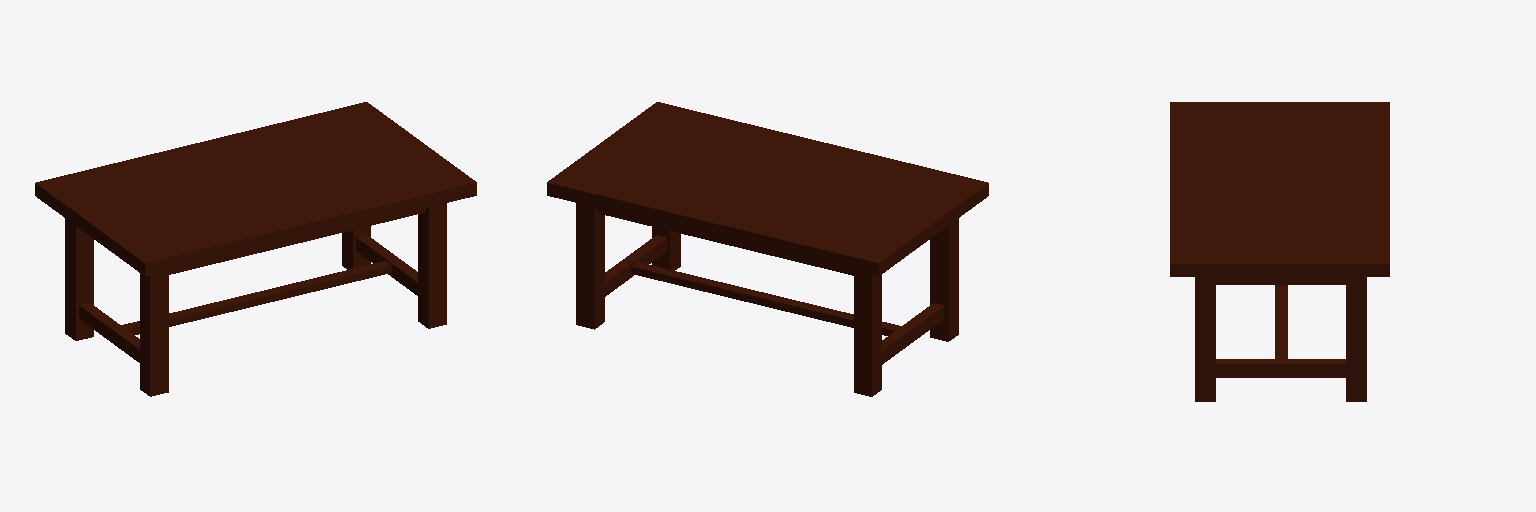
File: rectangulartable.obj
3 views of the same model, side by side, from view 1: azimuth 30°, elevation 25°; view 2: azimuth 150°, elevation 25°; view 3: azimuth 270°, elevation 25° (orthographic).
Parts seen in each view (by area): view 1: Cube_2_12, Cube_1_1, Cube_1_1_2, Cube_1_10_11, Cube_1_3_4, Cube_1_8_9, Cube_1_9_10, Cube_1_5_6, Cube_1_2_3; view 2: Cube_2_12, Cube_1_2_3, Cube_1_3_4, Cube_1_10_11, Cube_1_1, Cube_1_8_9, Cube_1_4_5, Cube_1_9_10, Cube_1_1_2; view 3: Cube_2_12, Cube_1_1_2, Cube_1_2_3, Cube_1_9_10, Cube_1_7_8, Cube_1_10_11.
Part boxes in pixels (x1,y1,x2,y2): Cube_2_12: (35,102,476,276); Cube_1_1: (140,271,168,396); Cube_1_1_2: (418,203,446,328); Cube_1_10_11: (121,261,391,334); Cube_1_3_4: (65,218,93,340); Cube_1_8_9: (79,303,139,362); Cube_1_9_10: (356,235,417,295); Cube_1_5_6: (169,208,425,274); Cube_1_2_3: (342,226,370,269); Cube_2_12: (547,102,988,276); Cube_1_2_3: (576,203,604,329); Cube_1_3_4: (854,271,881,396); Cube_1_10_11: (631,262,900,335); Cube_1_1: (930,218,958,341); Cube_1_8_9: (882,303,943,364); Cube_1_4_5: (597,208,853,275); Cube_1_9_10: (605,235,666,296); Cube_1_1_2: (652,227,680,270); Cube_2_12: (1170,102,1389,276); Cube_1_1_2: (1195,277,1215,401); Cube_1_2_3: (1346,277,1366,401); Cube_1_9_10: (1216,359,1345,377); Cube_1_7_8: (1216,277,1345,284); Cube_1_10_11: (1275,285,1287,358).
Size of the model in its own units: 175 by 73.98 by 101.